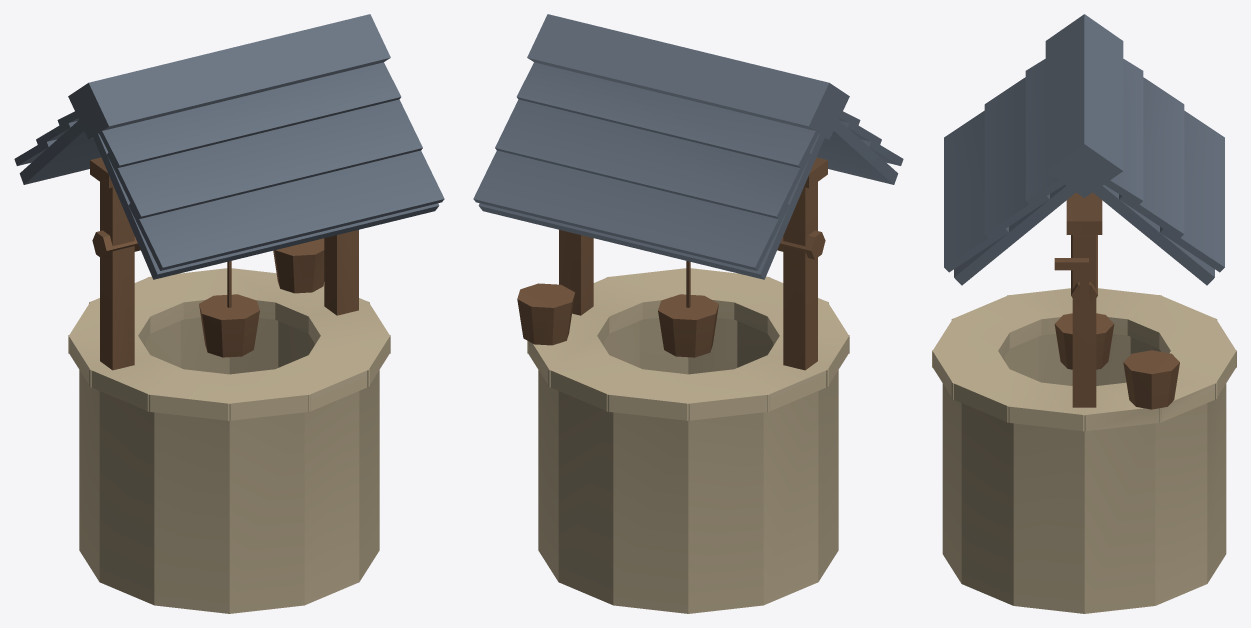
File: well.glb
The picture shows the model from 3 angles, left to right: view 1: azimuth 30°, elevation 25°; view 2: azimuth 150°, elevation 25°; view 3: azimuth 270°, elevation 25°; orthographic projection. The views are drawn at different scales.
Parts seen in each view (by area): view 1: well; view 2: well; view 3: well.
Boxes of the visible parts, x1,y1,x2,y2 form: well: [14, 14, 444, 613]; well: [473, 14, 903, 613]; well: [932, 14, 1236, 613].
Size of the model in its own units: 2.06 by 3.51 by 2.04.
